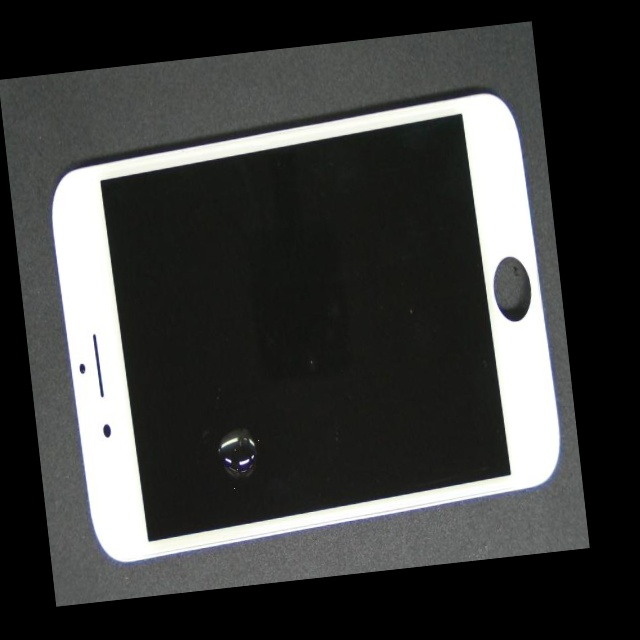oil: (121, 233, 333, 595)
